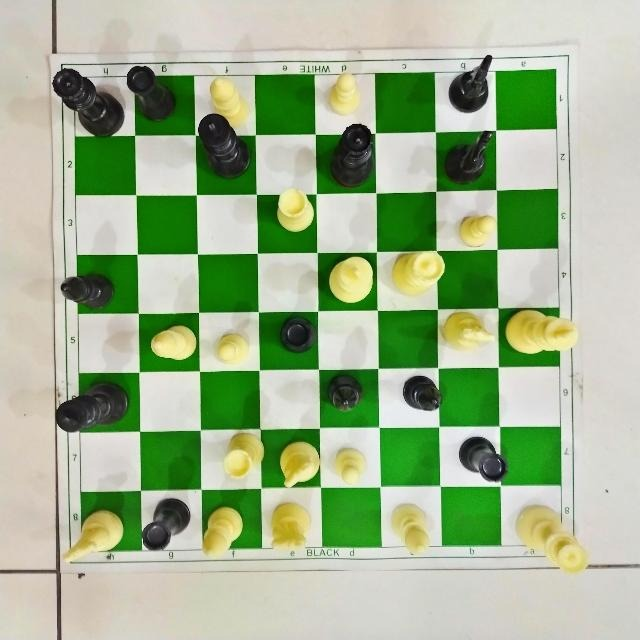black-bishop: (59, 268, 117, 313), (399, 370, 446, 416), (321, 370, 369, 414)
black-king: (52, 377, 132, 435), (196, 112, 254, 182)
black-knight: (446, 50, 497, 114), (442, 130, 499, 186)
black-queen: (52, 65, 126, 141), (326, 120, 378, 187)
black-rook: (126, 61, 182, 122), (138, 495, 194, 553), (458, 434, 510, 484), (275, 311, 319, 357)
white-bishop: (201, 74, 257, 130), (387, 500, 435, 558), (201, 503, 249, 558), (149, 321, 199, 371)
white-king: (499, 308, 580, 358), (326, 254, 377, 306)
white-knight: (57, 502, 129, 566), (440, 309, 498, 355), (273, 438, 324, 490), (265, 501, 315, 553)
white-pawn: (330, 446, 374, 486), (326, 73, 364, 117), (455, 210, 499, 247), (211, 329, 248, 368)
white-queen: (515, 500, 591, 577), (389, 249, 450, 299)
white-rook: (220, 430, 268, 480), (272, 187, 316, 237)
